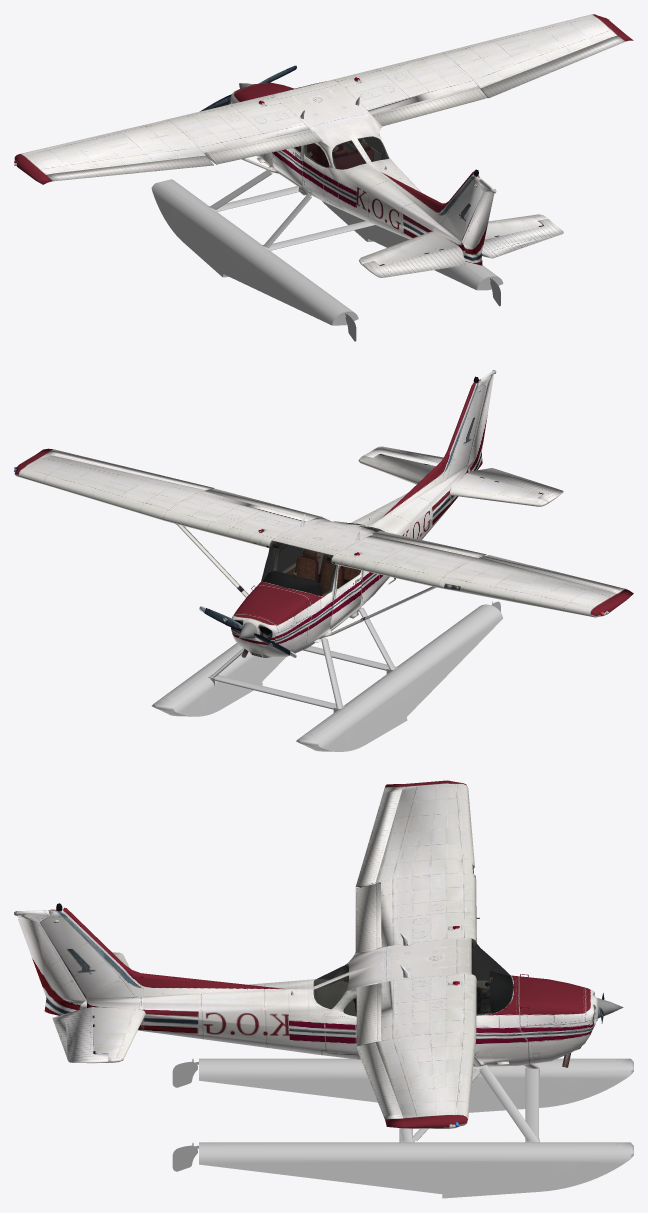
File: seaplane_cessna_172.glb
3 views of the same model, one above another, from view 1: azimuth 30°, elevation 25°; view 2: azimuth 150°, elevation 25°; view 3: azimuth 270°, elevation 25° (orthographic). The views are drawn at different scales.
Parts seen in each view (by area): view 1: Cessna172 SeaPlane.009, Cessna172 SeaPlane.007, Cessna172 SeaPlane.008, Cessna172 SeaPlane, Cessna172 SeaPlane.005, Cessna172 SeaPlane.004, Cessna172 SeaPlane.003, Cessna172 SeaPlane.002, Cessna172 SeaPlane.001; view 2: Cessna172 SeaPlane.009, Cessna172 SeaPlane.007, Cessna172 SeaPlane, Cessna172 SeaPlane.008, Cessna172 SeaPlane.003, Cessna172 SeaPlane.005, Cessna172 SeaPlane.002, Cessna172 SeaPlane.004, Cessna172 SeaPlane.006, Cessna172 SeaPlane.001; view 3: Cessna172 SeaPlane.007, Cessna172 SeaPlane.009, Cessna172 SeaPlane.008, Cessna172 SeaPlane, Cessna172 SeaPlane.003, Cessna172 SeaPlane.004, Cessna172 SeaPlane.001, Cessna172 SeaPlane.005.
Boxes of the visible parts, <box> form: Cessna172 SeaPlane.009: <box>14,14,633,195</box>; Cessna172 SeaPlane.007: <box>151,170,503,341</box>; Cessna172 SeaPlane.008: <box>336,157,563,277</box>; Cessna172 SeaPlane: <box>230,79,389,212</box>; Cessna172 SeaPlane.005: <box>481,35,625,97</box>; Cessna172 SeaPlane.004: <box>45,155,213,181</box>; Cessna172 SeaPlane.003: <box>462,176,496,252</box>; Cessna172 SeaPlane.002: <box>380,245,465,277</box>; Cessna172 SeaPlane.001: <box>481,226,561,258</box>; Cessna172 SeaPlane.009: <box>14,448,633,642</box>; Cessna172 SeaPlane.007: <box>152,601,503,751</box>; Cessna172 SeaPlane: <box>231,514,389,657</box>; Cessna172 SeaPlane.008: <box>350,376,563,539</box>; Cessna172 SeaPlane.003: <box>468,370,496,465</box>; Cessna172 SeaPlane.005: <box>45,449,213,491</box>; Cessna172 SeaPlane.002: <box>466,468,561,493</box>; Cessna172 SeaPlane.004: <box>481,555,625,593</box>; Cessna172 SeaPlane.006: <box>199,606,296,657</box>; Cessna172 SeaPlane.001: <box>380,446,443,465</box>; Cessna172 SeaPlane.007: <box>172,1058,633,1198</box>; Cessna172 SeaPlane.009: <box>355,780,509,1128</box>; Cessna172 SeaPlane.008: <box>44,903,330,1063</box>; Cessna172 SeaPlane: <box>313,933,597,1067</box>; Cessna172 SeaPlane.003: <box>14,909,86,1000</box>; Cessna172 SeaPlane.004: <box>355,786,402,887</box>; Cessna172 SeaPlane.001: <box>52,1007,93,1061</box>; Cessna172 SeaPlane.005: <box>356,1042,402,1119</box>.
Size of the model in its own units: 44.82 by 14.84 by 34.04.
Materials: 5 (5 with a texture image).
